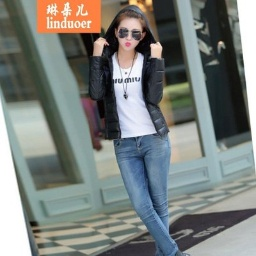face: (111, 6, 147, 50)
